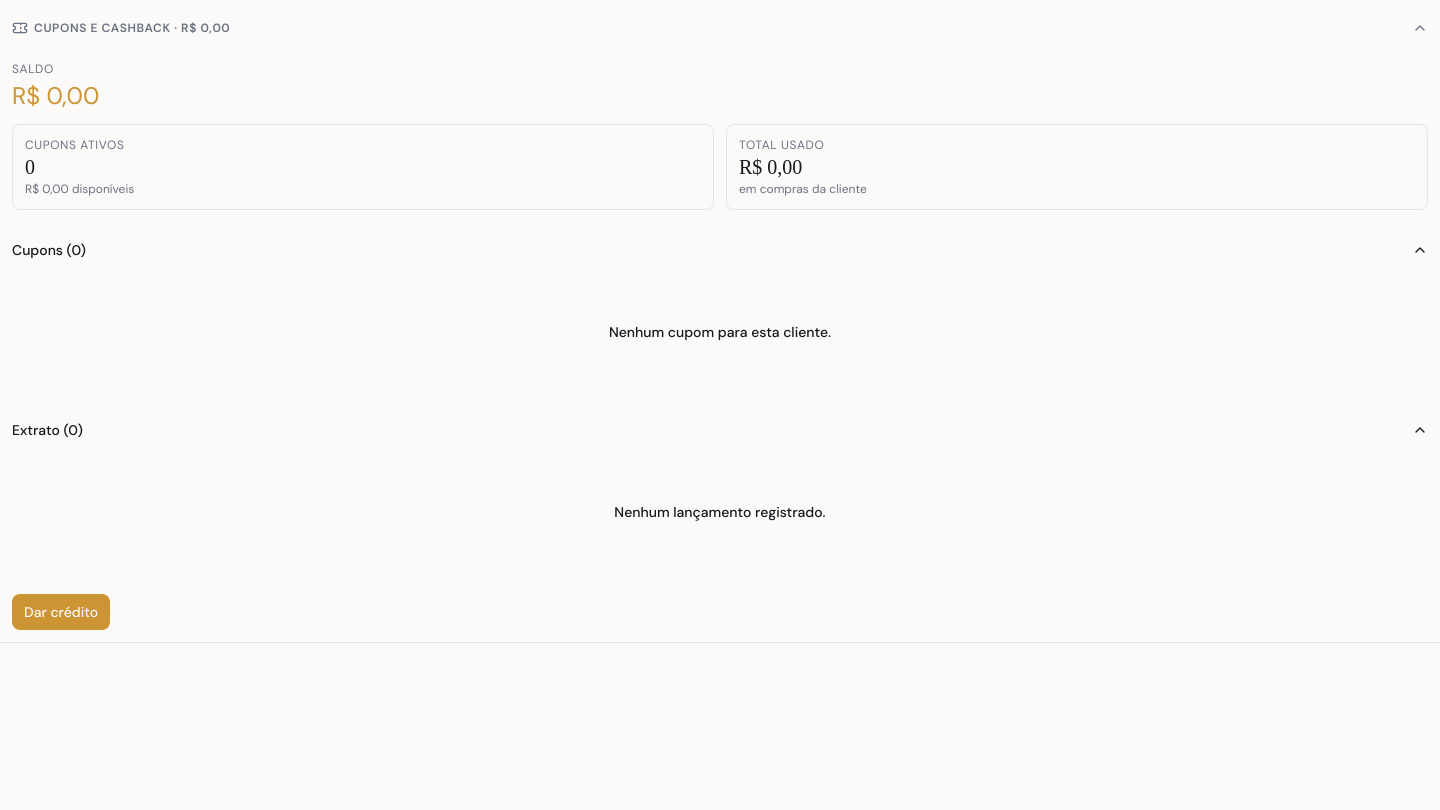
Cashback no Atendimento › recolhe cada seção de forma independente e lembra a preferência em outra conversa
Later steps or results of the test are not shown.
What coordinates should you click on to do the following:
click the button "Cupons (0)"
I would click on:
 (42, 250)
Its box is top-left (12, 234), bottom-right (1428, 266).
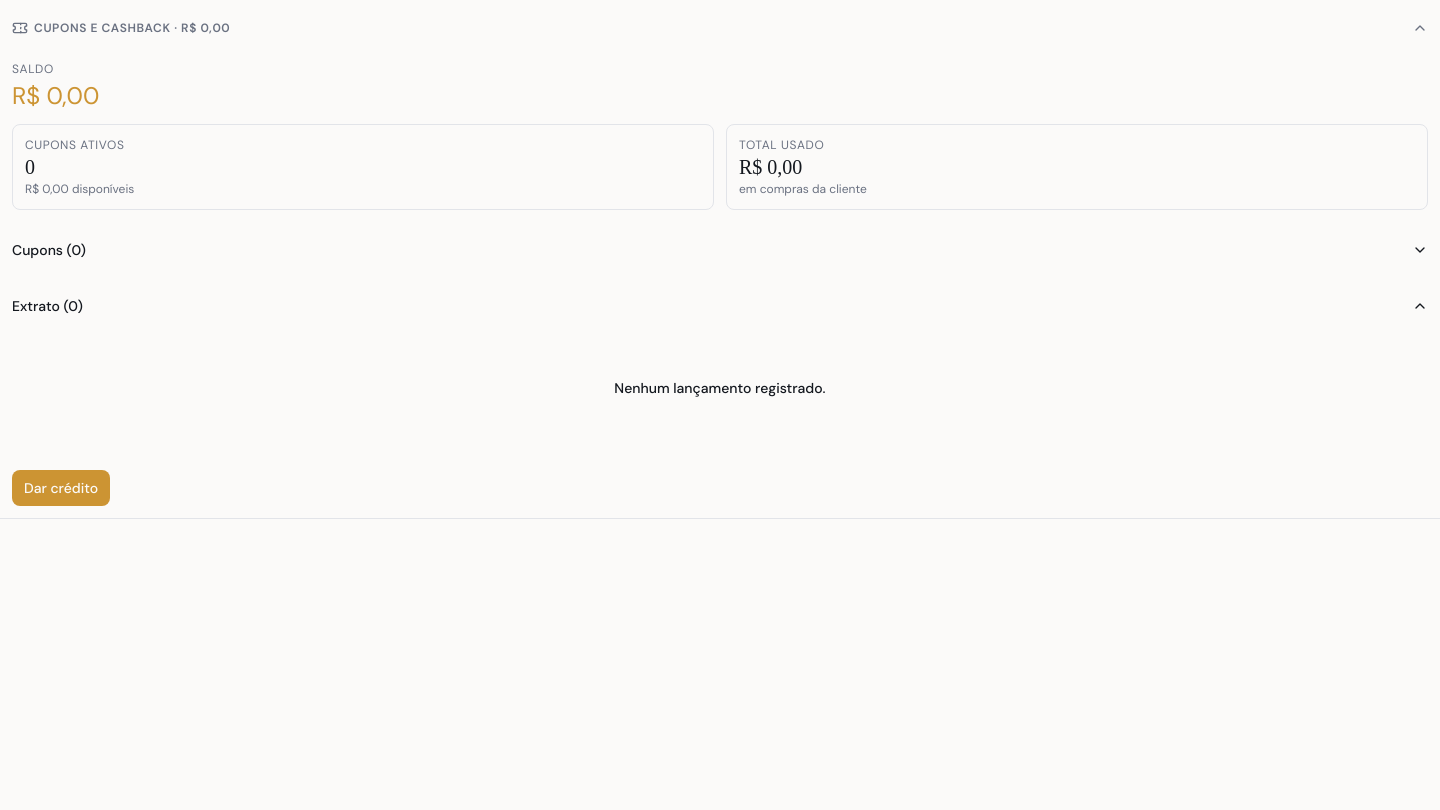
What coordinates should you click on to do the following:
click the button "Extrato (0)"
I would click on:
 (40, 306)
Its box is top-left (12, 290), bottom-right (1428, 322).
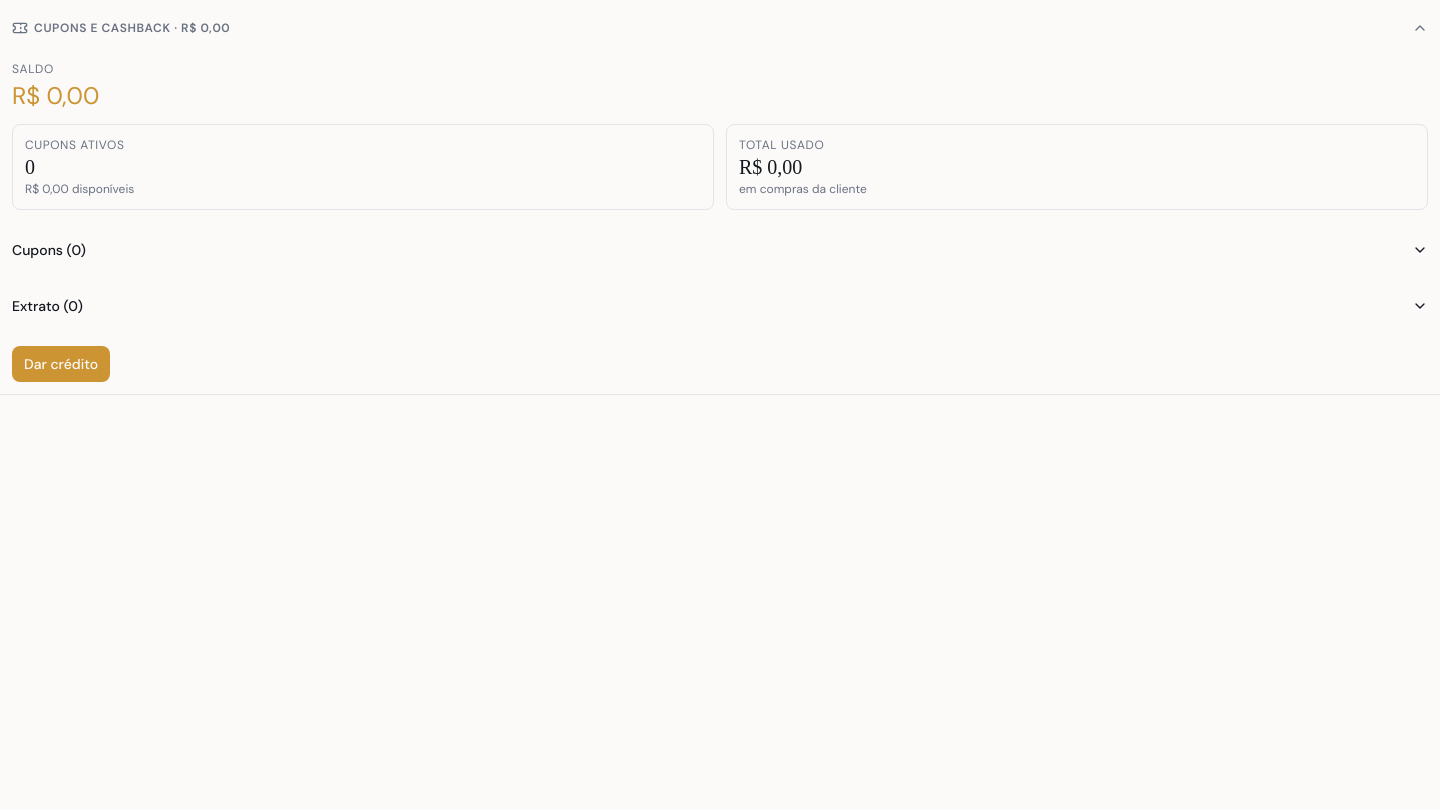
Check: the button "Dar crédito" is shown, box top-left (12, 346), bottom-right (110, 382)
Check: the button "Cupons (0)" has attribute data-state="closed", box top-left (12, 234), bottom-right (1428, 266)
Check: the button "Extrato (0)" has attribute data-state="closed", box top-left (12, 290), bottom-right (1428, 322)
What coordinates should you click on to do the following:
click the button "Cupons e cashback · R$ 0,00"
I would click on:
 (108, 28)
Its box is top-left (12, 12), bottom-right (1428, 44).
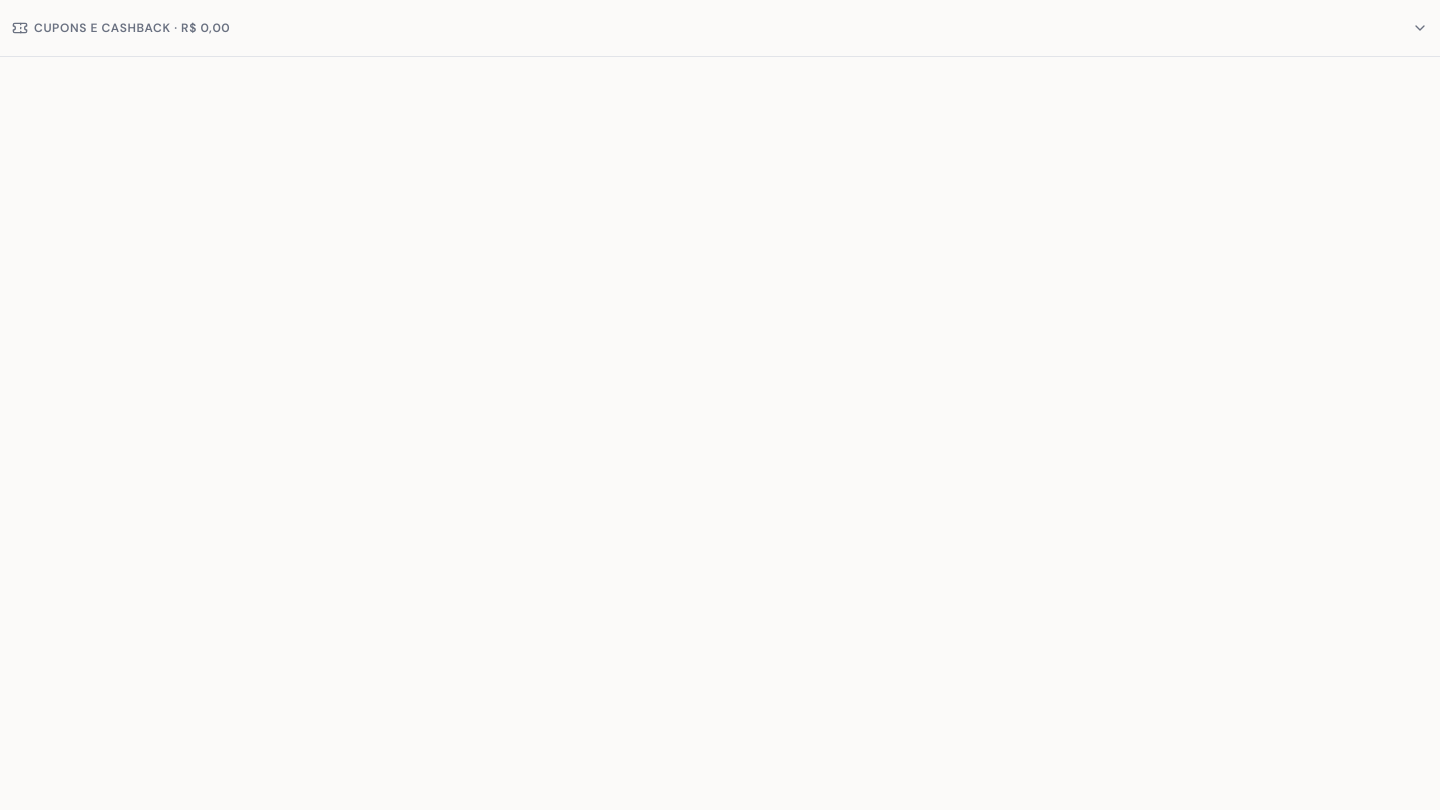
Check: the button "Cupons e cashback · R$ 0,00" has attribute data-state="closed", box top-left (12, 12), bottom-right (1428, 44)
